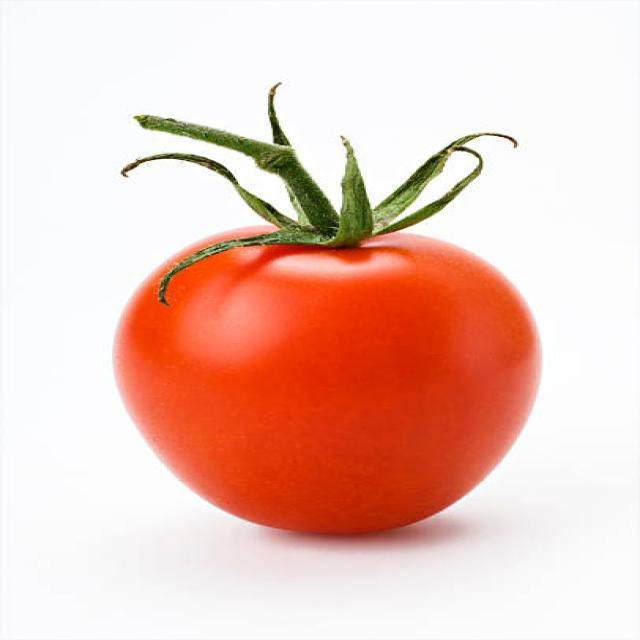Fresh_tomato: (120, 218, 543, 550)
